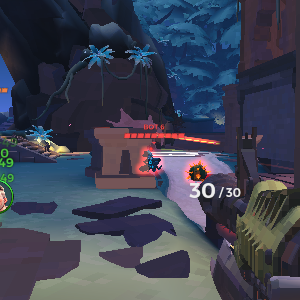model: (140, 145, 162, 176)
